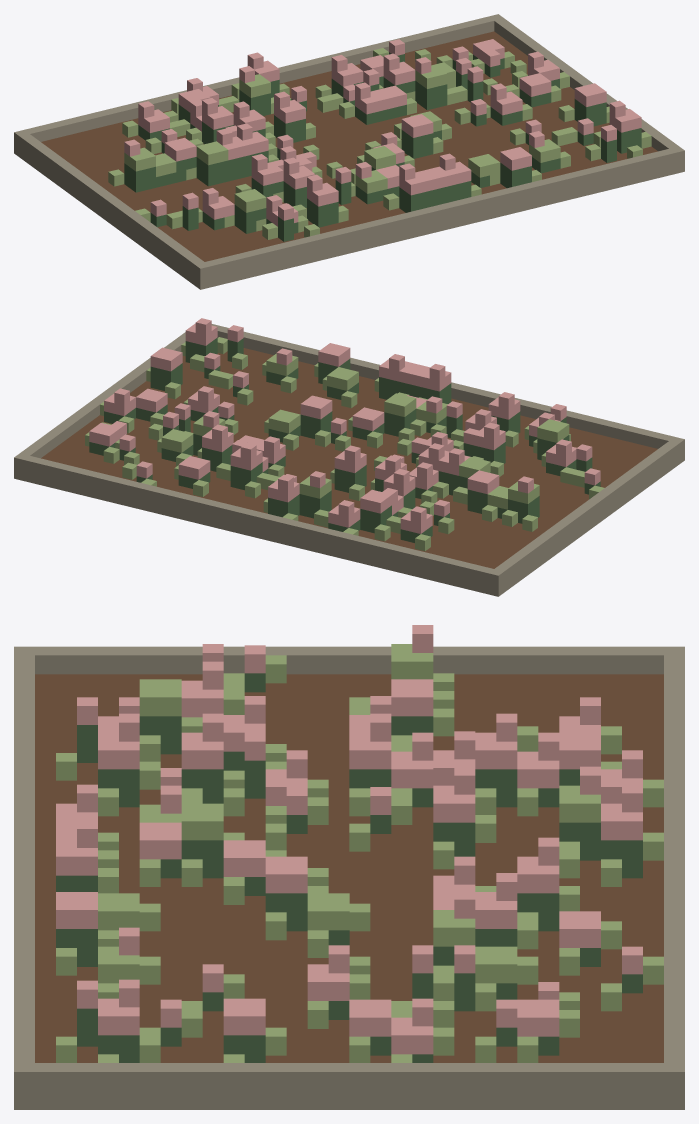
File: hearthvale_garden_flowers_48x32.obj
3 views of the same model, one above another, from view 1: azimuth 30°, elevation 25°; view 2: azimuth 150°, elevation 25°; view 3: azimuth 270°, elevation 25° (orthographic). The views are drawn at different scales.
Parts seen in each view (by area): view 1: palette_1, palette_5, palette_2, palette_3, palette_4; view 2: palette_1, palette_2, palette_5, palette_4, palette_3; view 3: palette_2, palette_5, palette_1, palette_4, palette_3.
Part boxes in pixels (bbox=[...]): palette_1: bbox=[14, 14, 684, 289]; palette_5: bbox=[124, 39, 641, 226]; palette_2: bbox=[41, 31, 657, 261]; palette_3: bbox=[124, 52, 641, 241]; palette_4: bbox=[108, 48, 651, 239]; palette_1: bbox=[14, 324, 684, 596]; palette_2: bbox=[41, 348, 657, 568]; palette_5: bbox=[89, 318, 600, 533]; palette_4: bbox=[85, 337, 604, 551]; palette_3: bbox=[89, 337, 600, 542]; palette_2: bbox=[35, 674, 663, 1062]; palette_5: bbox=[56, 625, 642, 1054]; palette_1: bbox=[14, 646, 684, 1109]; palette_4: bbox=[56, 644, 663, 1062]; palette_3: bbox=[56, 673, 642, 1062].
Size of the model in its own units: 3 by 0.3125 by 2.
